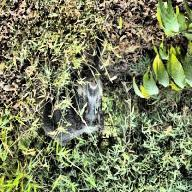boar: (36, 39, 120, 153)
